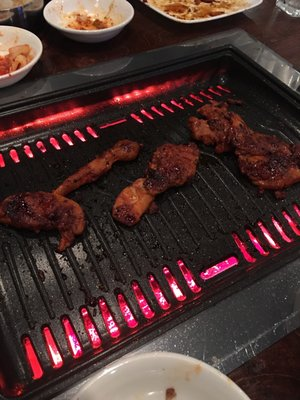pizza: (275, 0, 300, 18)
sushi: (57, 350, 254, 400), (42, 0, 134, 44), (0, 25, 43, 89)
